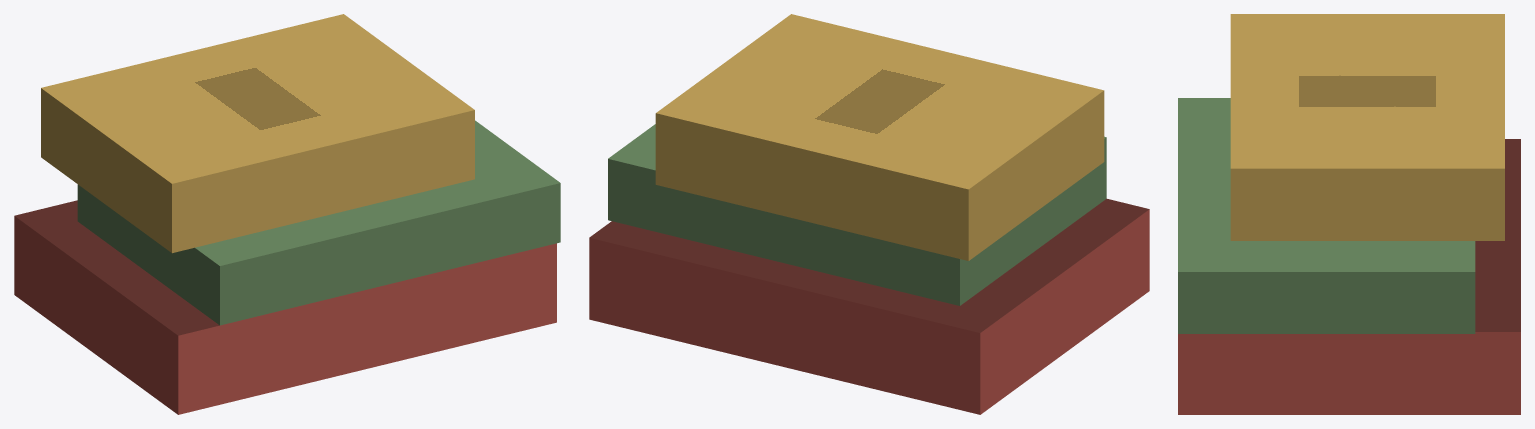
File: BookStack.obj
The picture shows the model from 3 angles, left to right: view 1: azimuth 30°, elevation 25°; view 2: azimuth 150°, elevation 25°; view 3: azimuth 270°, elevation 25°; orthographic projection. The views are drawn at different scales.
Visible parts, largest first — view 1: BookStack; view 2: BookStack; view 3: BookStack.
Boxes of the visible parts, x1,y1,x2,y2 form: BookStack: (14,14,560,414); BookStack: (589,14,1149,414); BookStack: (1178,14,1520,414).
Size of the model in its own units: 0.202 by 0.105 by 0.15.
1 material, 1 textured.
